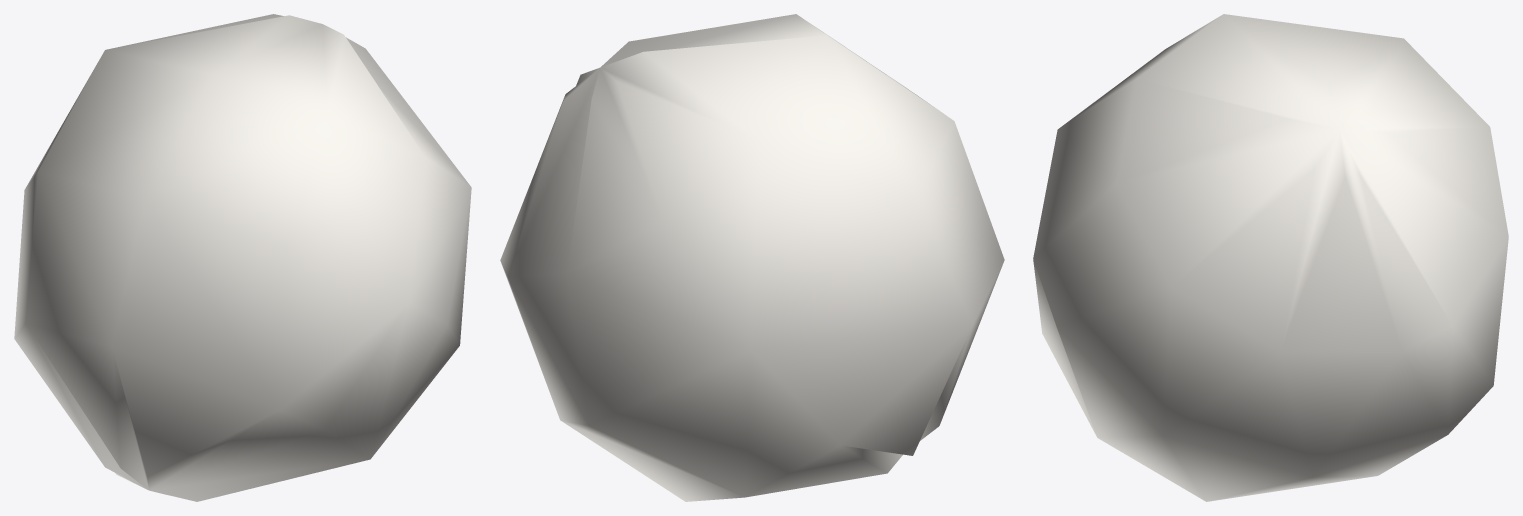
The model's file is boulder_polar_grey.obj.
The picture shows the model from 3 angles, left to right: view 1: azimuth 30°, elevation 25°; view 2: azimuth 150°, elevation 25°; view 3: azimuth 270°, elevation 25°; orthographic projection. The views are drawn at different scales.
Visible parts, largest first — view 1: pSphere1; view 2: pSphere1; view 3: pSphere1.
Boxes of the visible parts, bbox=[...] form: pSphere1: bbox=[14, 14, 471, 501]; pSphere1: bbox=[500, 14, 1004, 501]; pSphere1: bbox=[1033, 14, 1508, 501].
Bounding box in the file's own units: 1.96 × 1.83 × 1.83.
